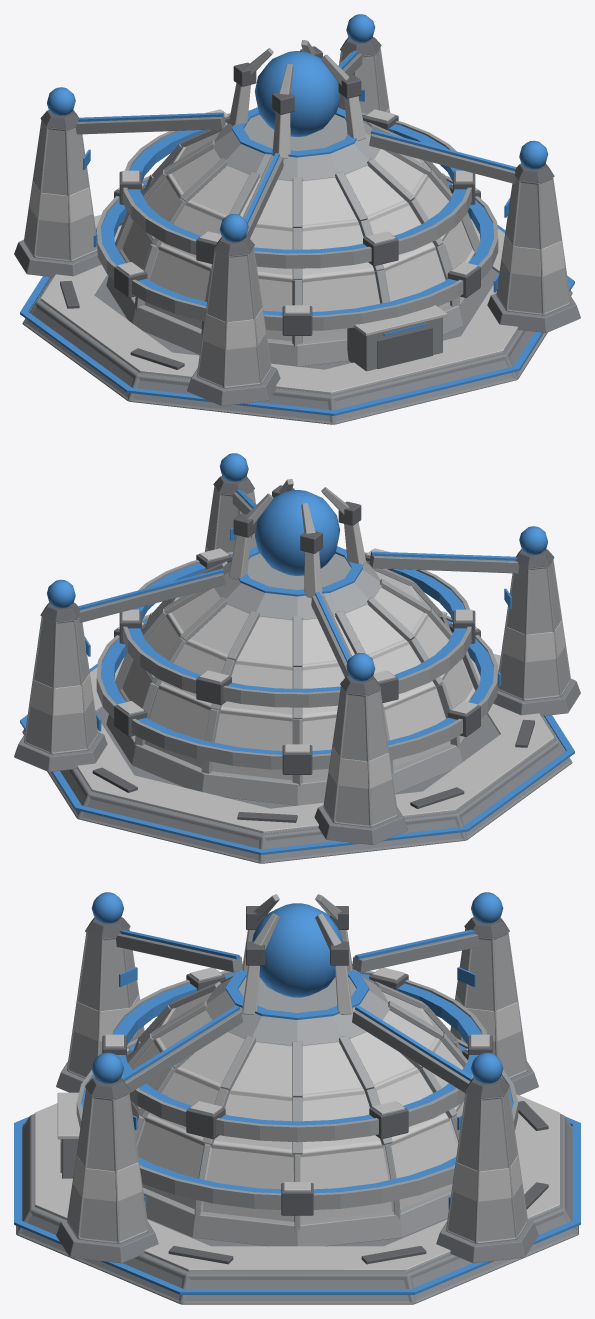
Rendered from lattice_fusion_reactor.glb.
The picture shows the model from 3 angles, top to bottom: view 1: azimuth 30°, elevation 25°; view 2: azimuth 150°, elevation 25°; view 3: azimuth 270°, elevation 25°; orthographic projection. The views are drawn at different scales.
Visible parts, largest first — view 1: Body, Rotor_Y; view 2: Body, Rotor_Y; view 3: Body, Rotor_Y.
Boxes of the visible parts, <box> form: Body: <box>14,14,580,424</box>; Rotor_Y: <box>96,109,498,335</box>; Body: <box>14,453,580,863</box>; Rotor_Y: <box>96,548,498,774</box>; Body: <box>14,892,580,1304</box>; Rotor_Y: <box>76,967,518,1215</box>.
Size of the model in its own units: 20.94 by 11.47 by 20.94.
